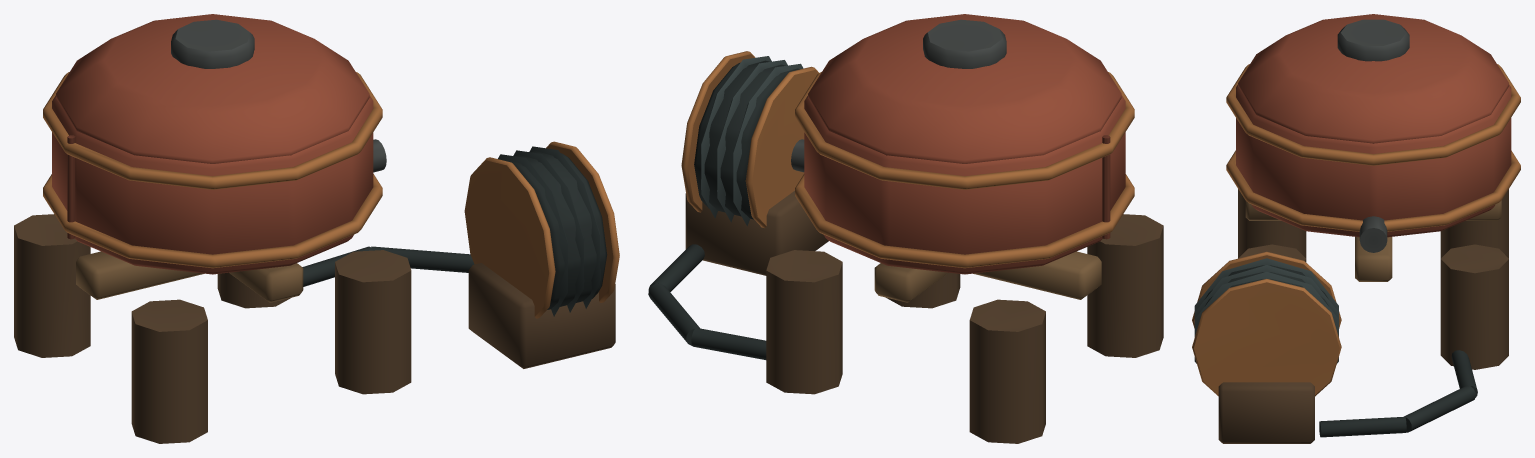
The model's file is water_tank_a.glb.
3 renders of one model, left to right at view 1: azimuth 30°, elevation 25°; view 2: azimuth 150°, elevation 25°; view 3: azimuth 270°, elevation 25°, orthographic. The views are drawn at different scales.
Visible parts, largest first — view 1: Surface; view 2: Surface; view 3: Surface.
Boxes of the visible parts, box(x1,y1,x2,y2) form: Surface: box(14, 14, 619, 443); Surface: box(648, 14, 1163, 443); Surface: box(1192, 14, 1520, 443).
Size of the model in its own units: 4.33 by 2.89 by 3.08.
